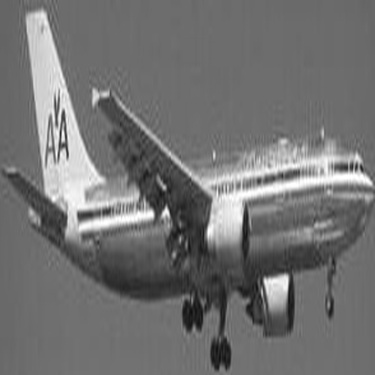airplane: (2, 3, 370, 371)
